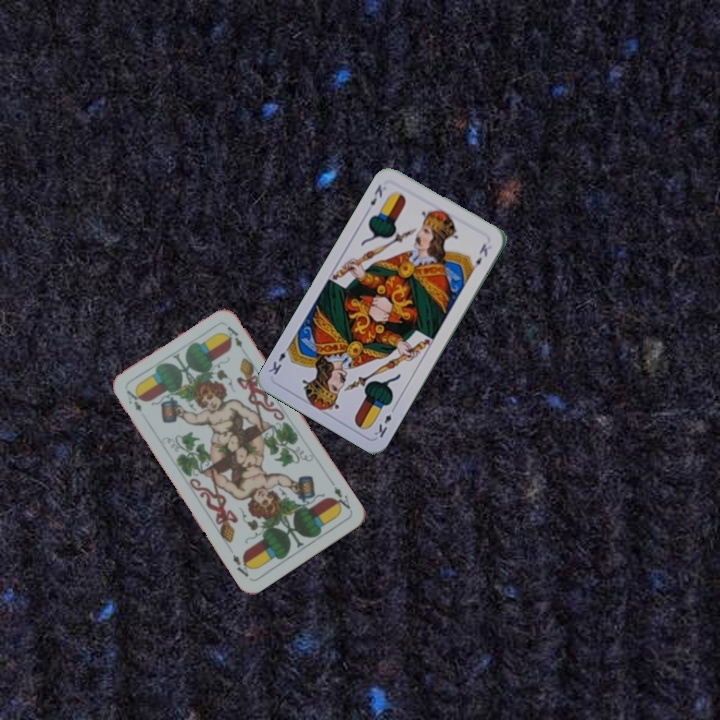EA: (329, 482, 353, 514), (122, 386, 145, 414)
EK: (370, 402, 398, 440), (366, 180, 385, 208)
